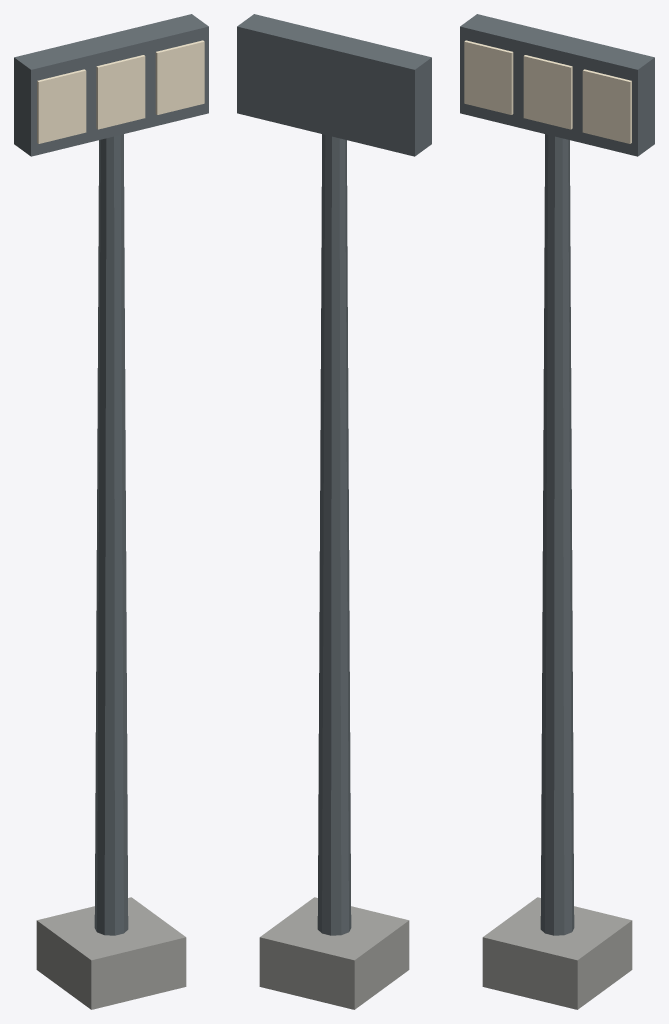
Rendered from pad_floodlight.fbx.
3 renders of one model, left to right at view 1: azimuth 30°, elevation 25°; view 2: azimuth 150°, elevation 25°; view 3: azimuth 330°, elevation 25°, orthographic.
Parts seen in each view (by area): view 1: pad_floodlight; view 2: pad_floodlight; view 3: pad_floodlight.
Part boxes in pixels (x1,y1,x2,y2): pad_floodlight: (14,14,208,1009); pad_floodlight: (237,14,431,1009); pad_floodlight: (460,14,654,1009).
Size of the model in its own units: 3 by 15.1 by 1.6.
